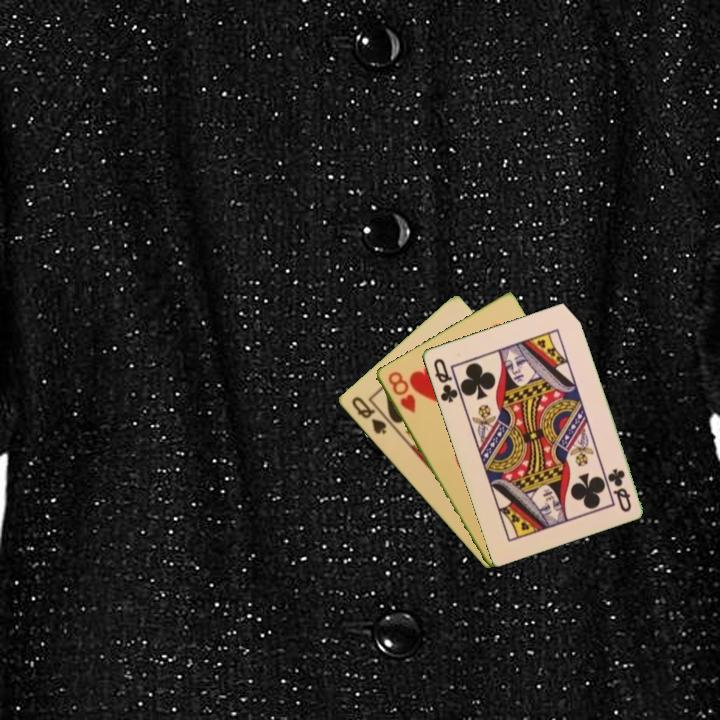8h: (384, 368, 418, 416)
Qc: (430, 355, 461, 405), (604, 465, 634, 515)
Qs: (348, 393, 389, 437)
